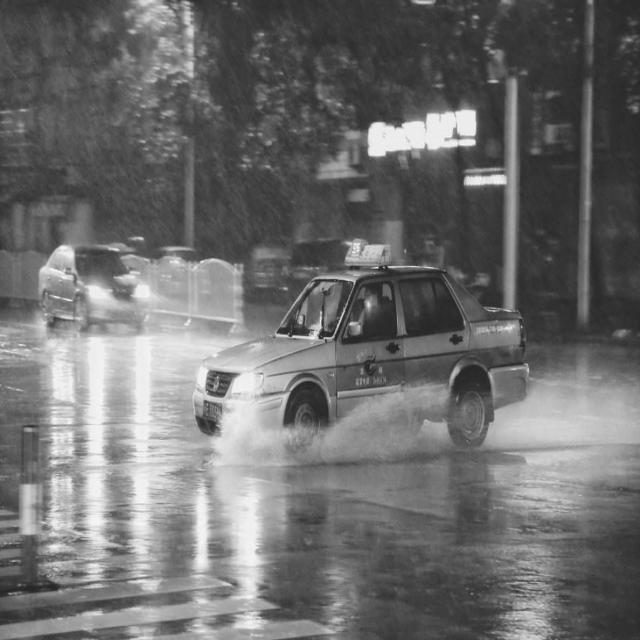car: (191, 235, 529, 460), (35, 243, 152, 332)
